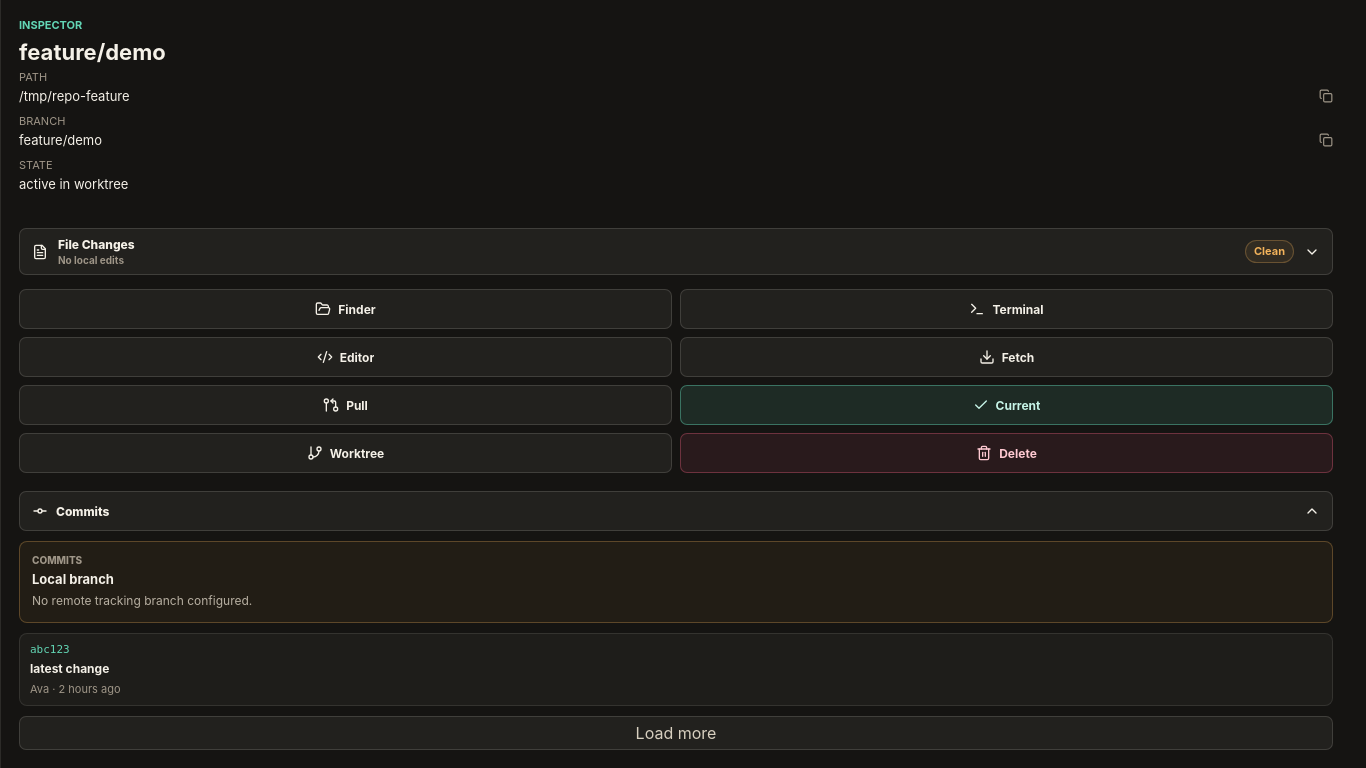
Inspector › loads the next commit page from the commit panel
The width and height of the screenshot is (1366, 768).
(page scrolled)
Expected: the text "latest change" is shown, [30,661,109,676]
Click the button "Load more": (676, 733) [19,716,1333,750]
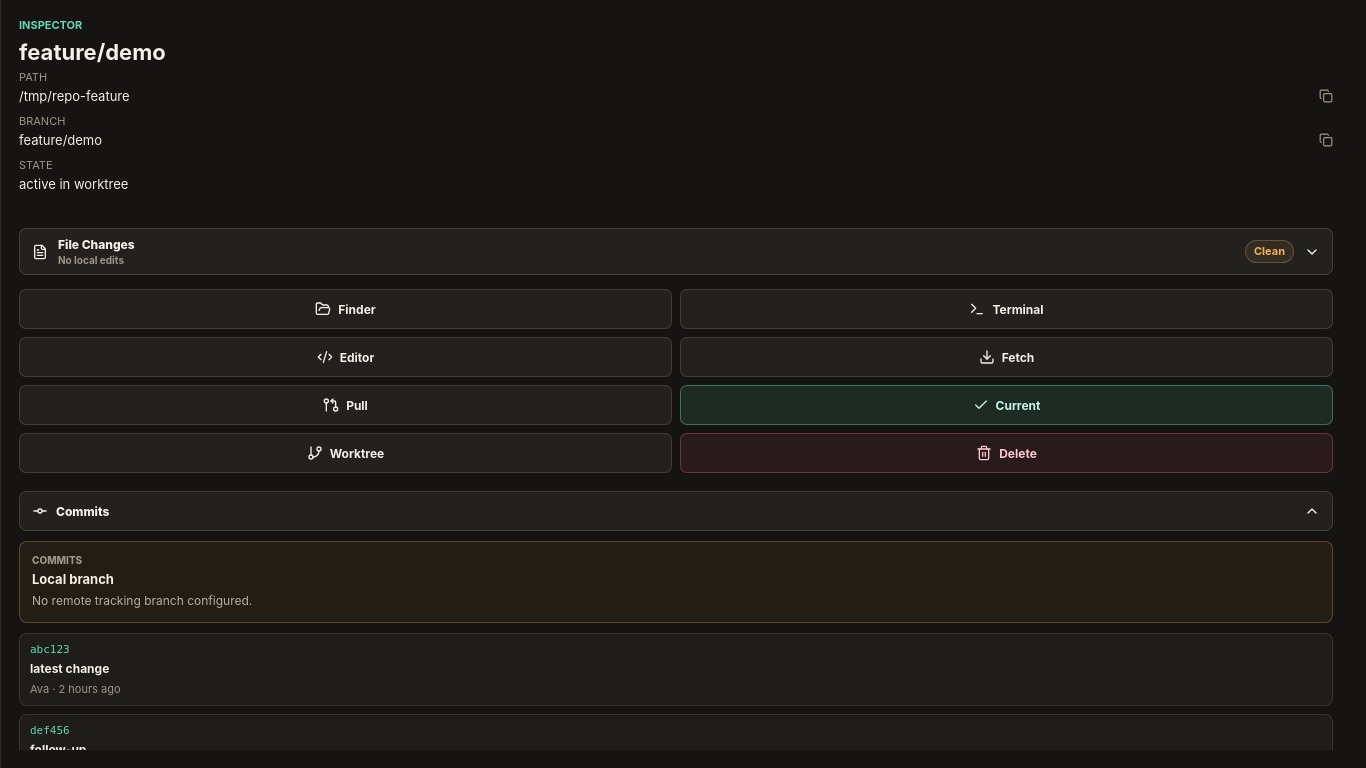
Result: the button "Load more" is gone
